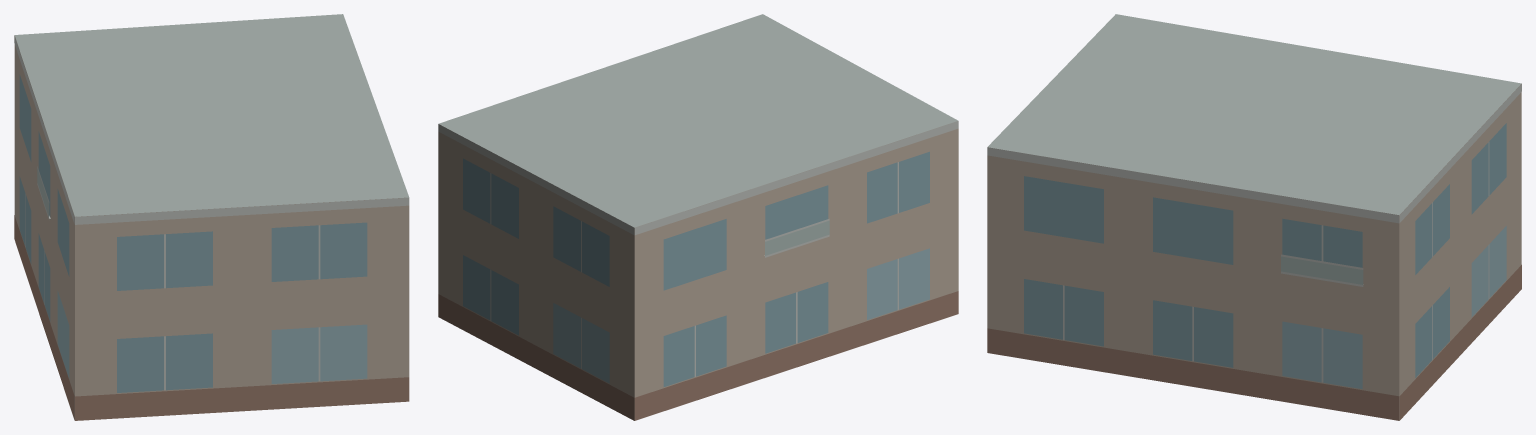
The model's file is survey-upis-32999073.glb.
3 renders of one model, left to right at view 1: azimuth 30°, elevation 25°; view 2: azimuth 150°, elevation 25°; view 3: azimuth 270°, elevation 25°, orthographic. The views are drawn at different scales.
Visible parts, largest first — view 1: survey-upis-32999073.tmp; view 2: survey-upis-32999073.tmp; view 3: survey-upis-32999073.tmp.
Boxes of the visible parts, box(x1,y1,x2,y2) form: survey-upis-32999073.tmp: box(14, 14, 409, 420); survey-upis-32999073.tmp: box(438, 14, 958, 420); survey-upis-32999073.tmp: box(987, 14, 1521, 420).
Bounding box in the file's own units: 12.81 × 6.1 × 14.38.
